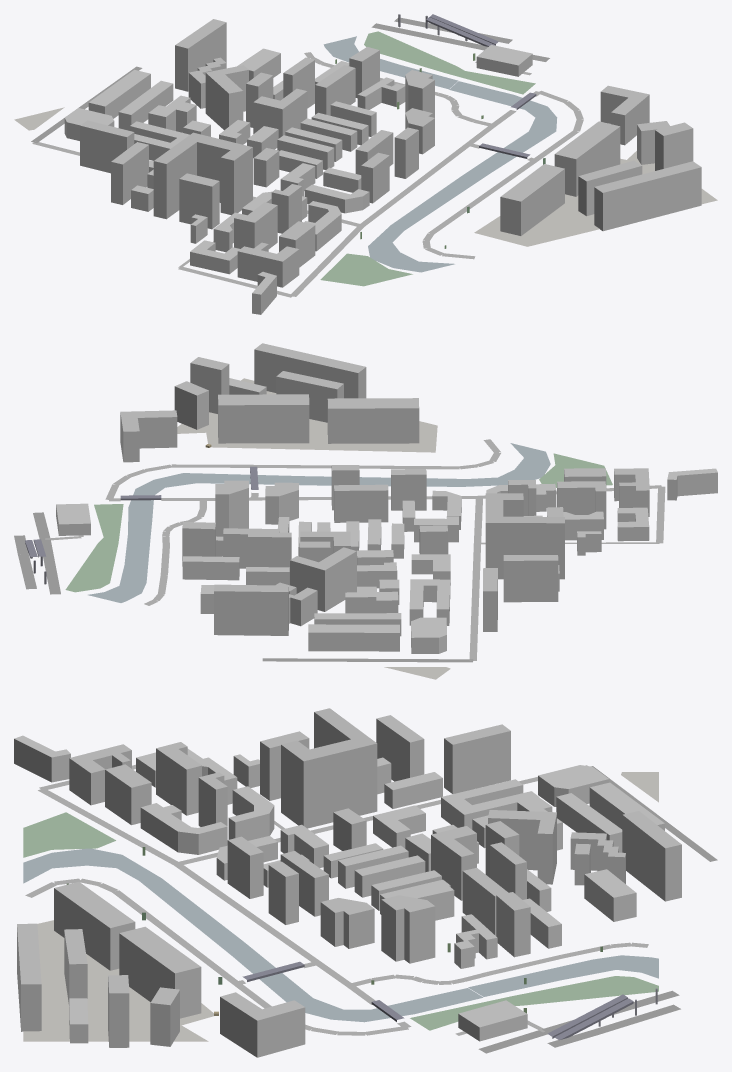
3 renders of one model, top to bottom at view 1: azimuth 30°, elevation 25°; view 2: azimuth 150°, elevation 25°; view 3: azimuth 270°, elevation 25°, orthographic. The views are drawn at different scales.
Bounding box in the file's own units: 563 × 61.4 × 554.
